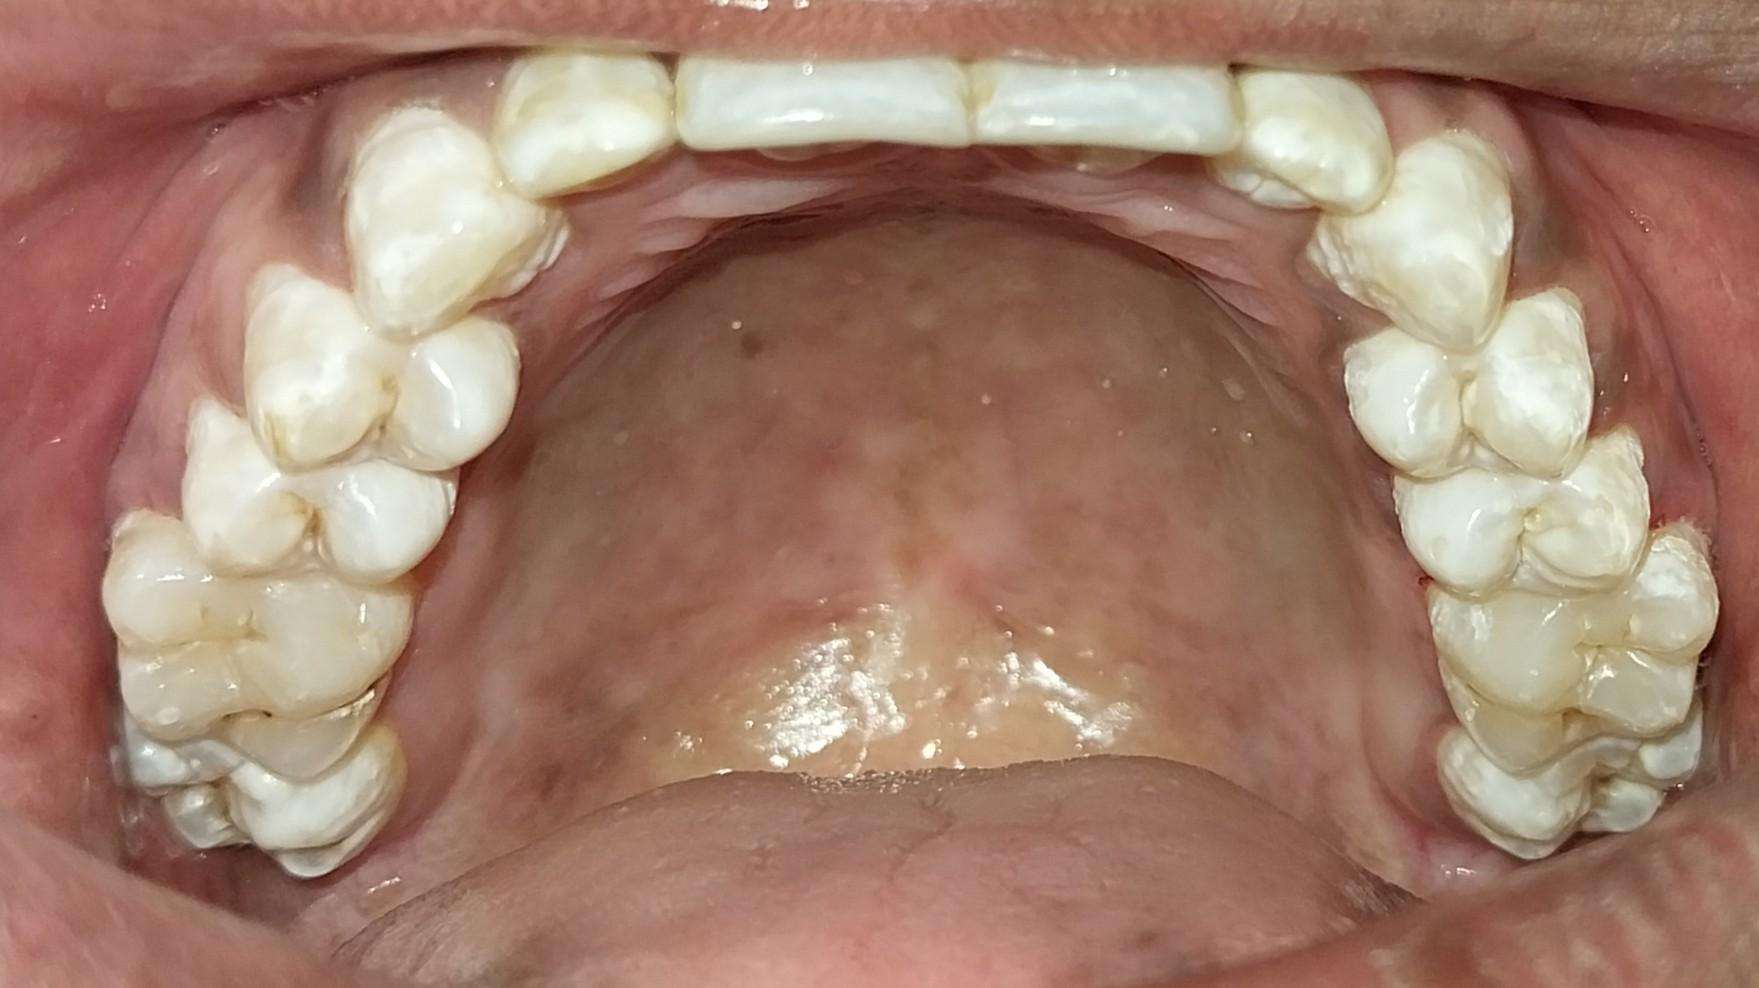D: (92, 530, 397, 780)
